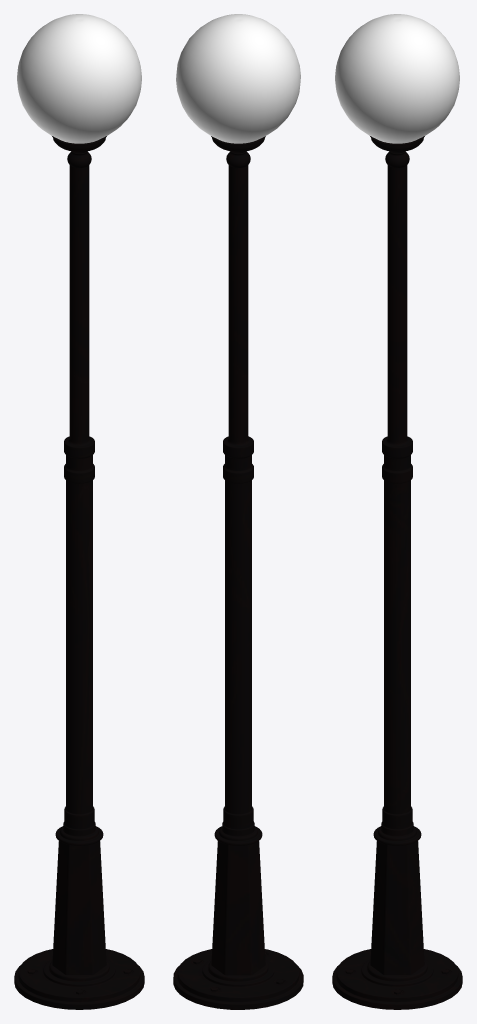
Rendered from lampara.obj.
3 renders of one model, left to right at view 1: azimuth 90°, elevation 25°; view 2: azimuth 150°, elevation 25°; view 3: azimuth 270°, elevation 25°, orthographic.
Visible parts, largest first — view 1: StrLmp1_Post, StrLmp1_Lamp, StrLmp1_Stand; view 2: StrLmp1_Post, StrLmp1_Lamp, StrLmp1_Stand; view 3: StrLmp1_Post, StrLmp1_Lamp, StrLmp1_Stand.
Boxes of the visible parts, box(x1,y1,x2,y2) form: StrLmp1_Post: box(14, 167, 144, 1009); StrLmp1_Lamp: box(17, 14, 141, 143); StrLmp1_Stand: box(52, 136, 106, 170); StrLmp1_Post: box(173, 167, 303, 1009); StrLmp1_Lamp: box(176, 14, 300, 143); StrLmp1_Stand: box(211, 136, 265, 170); StrLmp1_Post: box(332, 167, 462, 1009); StrLmp1_Lamp: box(335, 14, 459, 143); StrLmp1_Stand: box(370, 136, 424, 170).
Size of the model in its own units: 1.15 by 9.34 by 1.15.
Materials: 2 (2 with a texture image).
